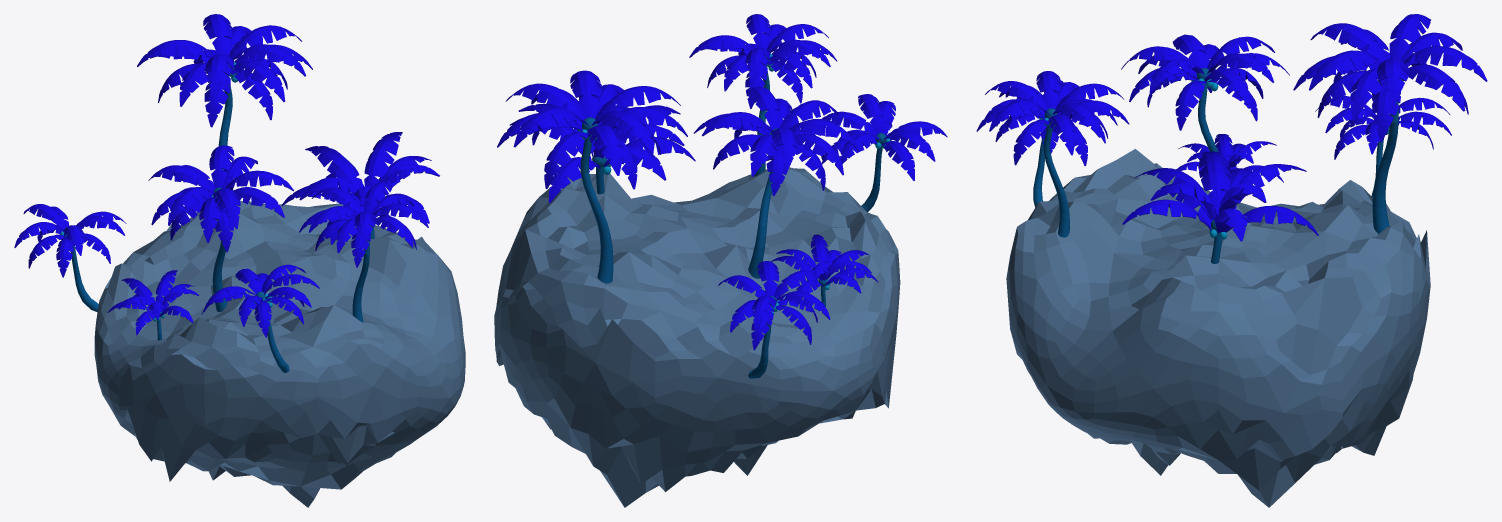
File: island Chungus.fbx
The picture shows the model from 3 angles, left to right: view 1: azimuth 30°, elevation 25°; view 2: azimuth 150°, elevation 25°; view 3: azimuth 270°, elevation 25°; orthographic projection. The views are drawn at different scales.
Parts seen in each view (by area): view 1: Icosphere.003; view 2: Icosphere.003; view 3: Icosphere.003.
Boxes of the visible parts, x1,y1,x2,y2 form: Icosphere.003: [14, 14, 465, 507]; Icosphere.003: [494, 14, 947, 507]; Icosphere.003: [976, 14, 1487, 507].
Size of the model in its own units: 1235 by 1303 by 1351.
